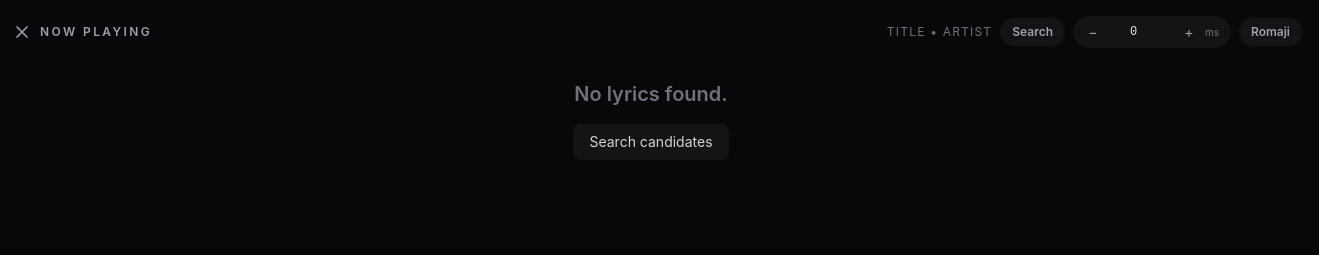
Scenario: LyricsSheet search/replace › shows Search when nothing found and searches with editable fields
Check: the text "No lyrics found." is shown, box [574,80,728,108]
Click the button "Search candidates".
click(651, 142)  # box [574,124,729,160]
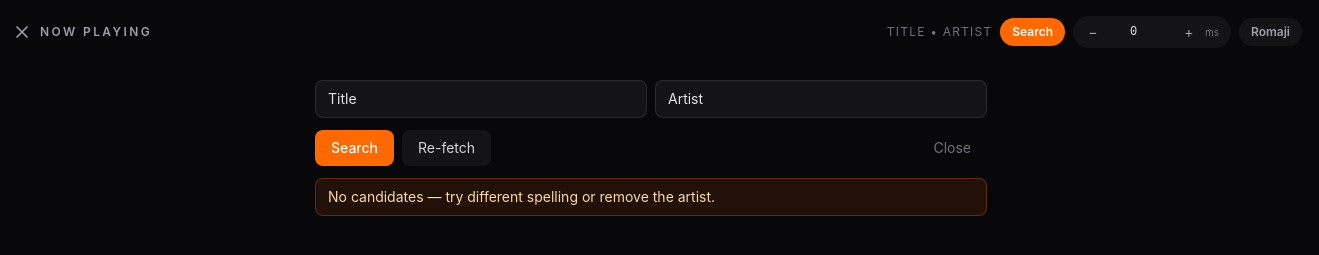
Check: the field with placeholder "Track name" is shown, box [315,80,647,118]
Header toggle + panel submit share the label — submit is the last one.
Click the 2nd button "Search".
click(354, 148)  # box [315,130,394,166]
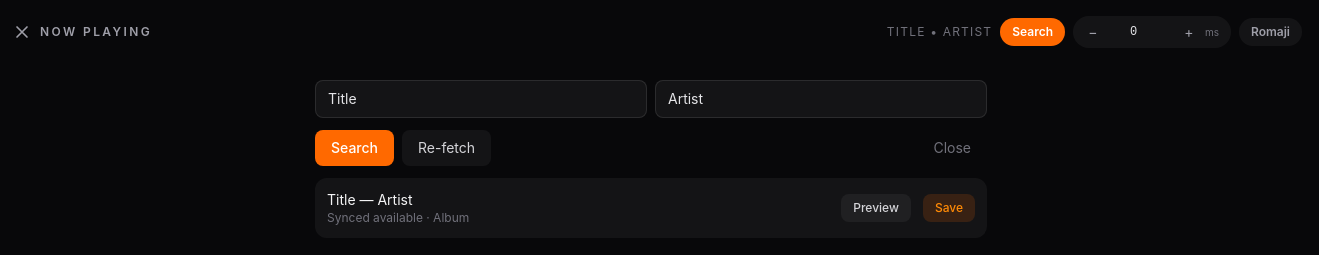
Check: the text "Title — Artist" is shown, box [327,191,412,208]
